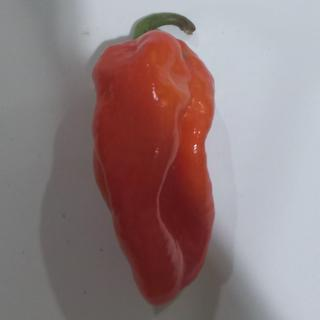Grade-A: (87, 25, 217, 308)
